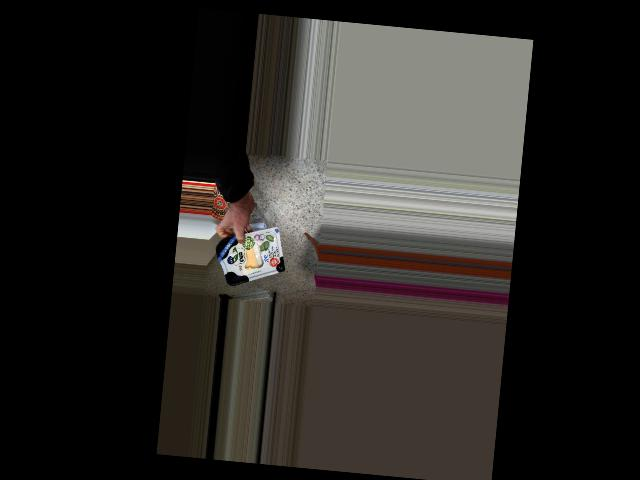cheese: (216, 228, 287, 281)
